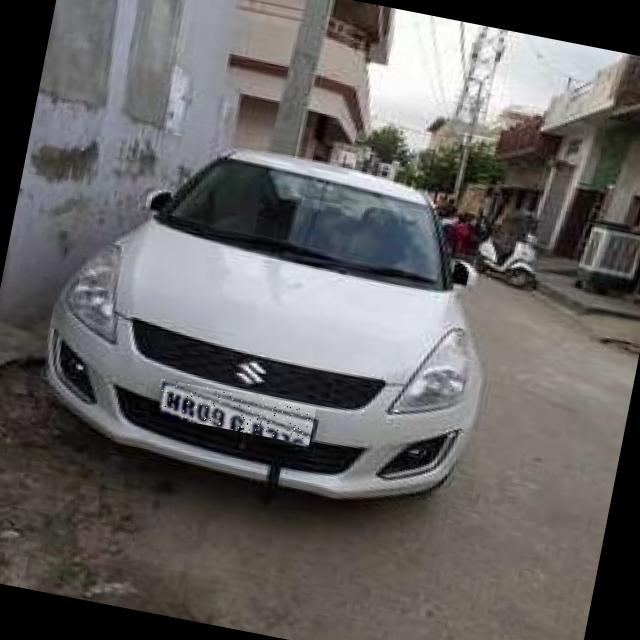Plate: (155, 380, 317, 446)
